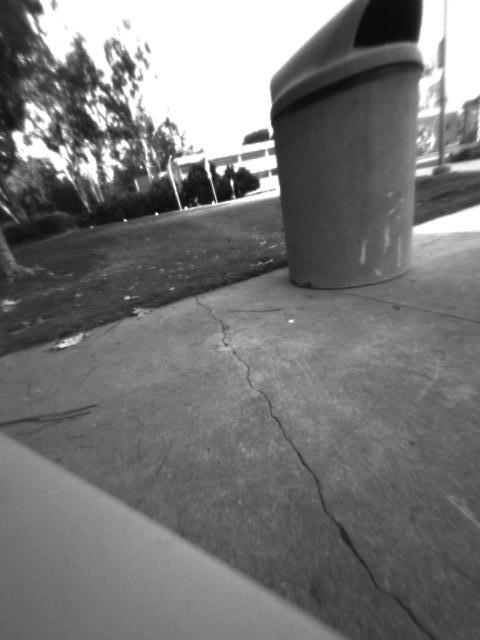trashcan: (265, 1, 424, 286)
